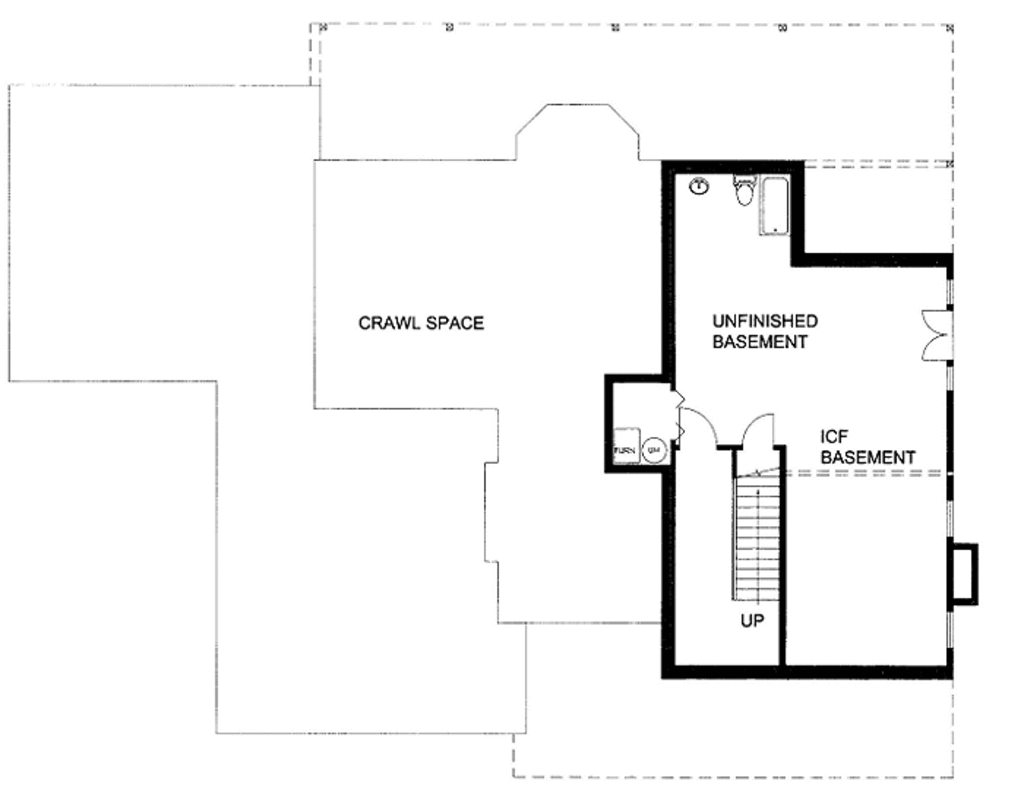door: (730, 406, 777, 452), (922, 306, 958, 364), (677, 409, 721, 452)
large_sink: (728, 174, 754, 210)
small_sink: (687, 177, 717, 206)
stairs: (729, 456, 782, 599)
tub: (757, 171, 787, 240)
window: (946, 502, 954, 537), (947, 277, 953, 307)
